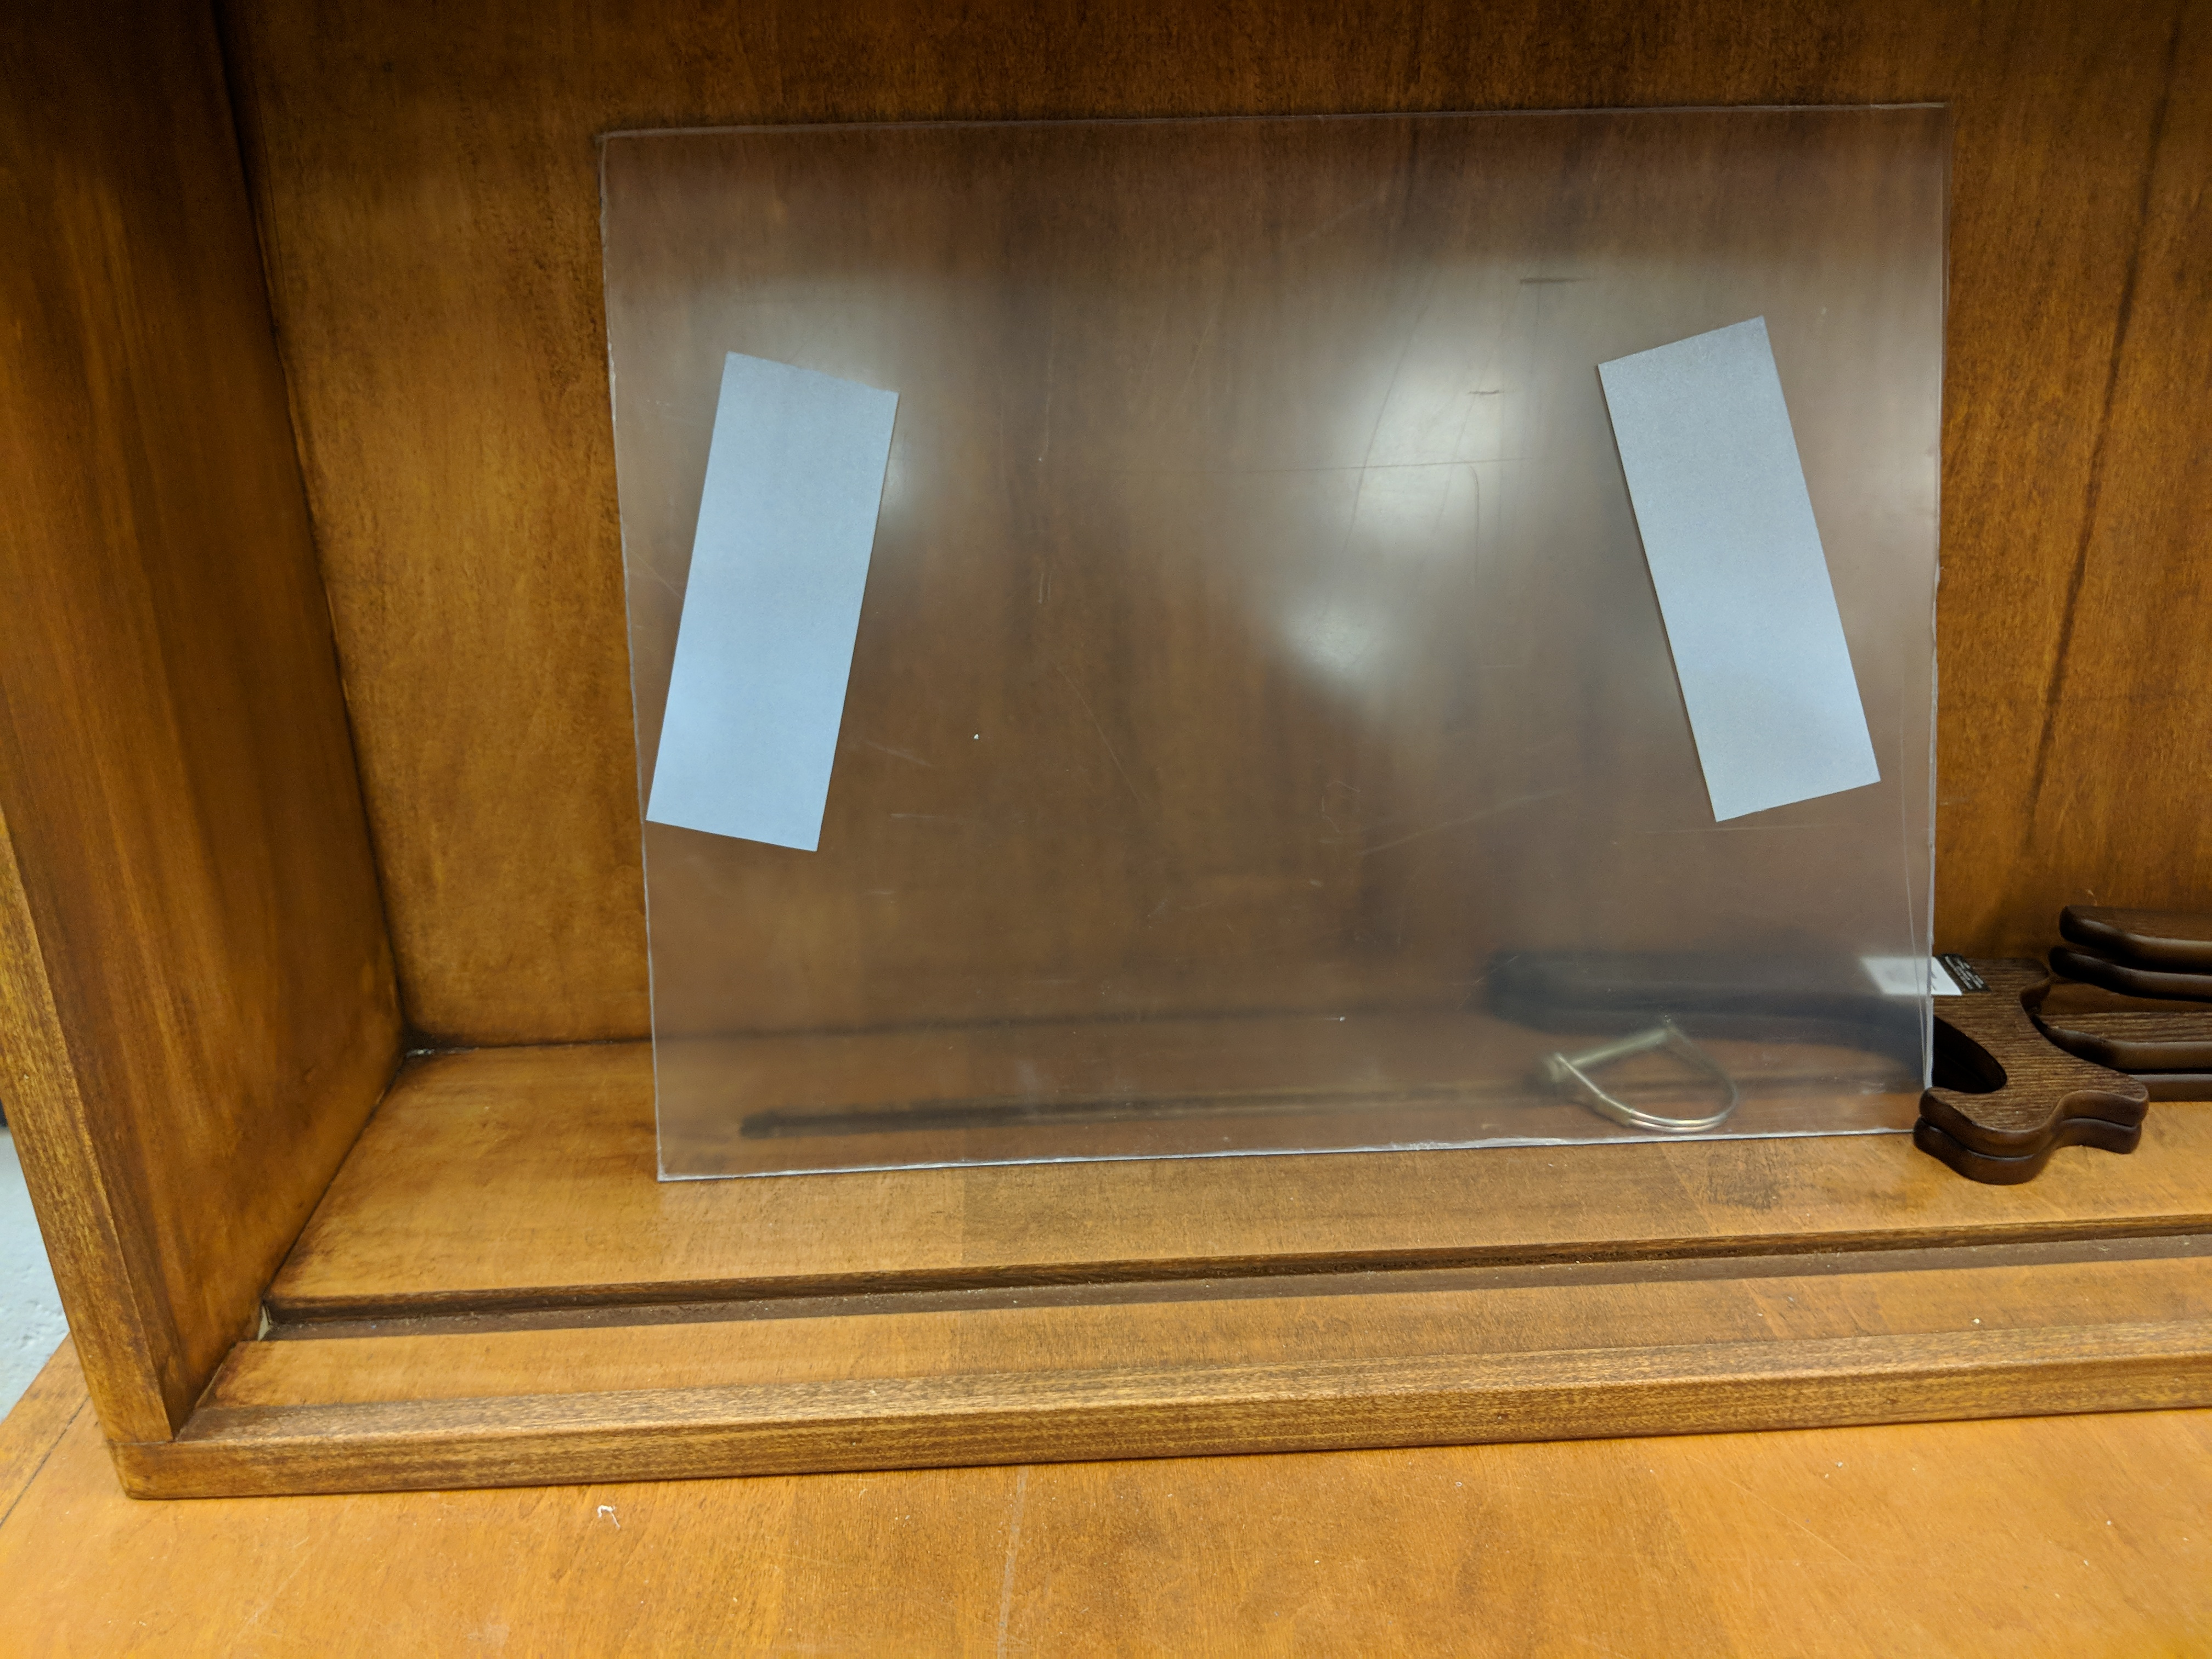vision_target: (634, 310, 1898, 871)
